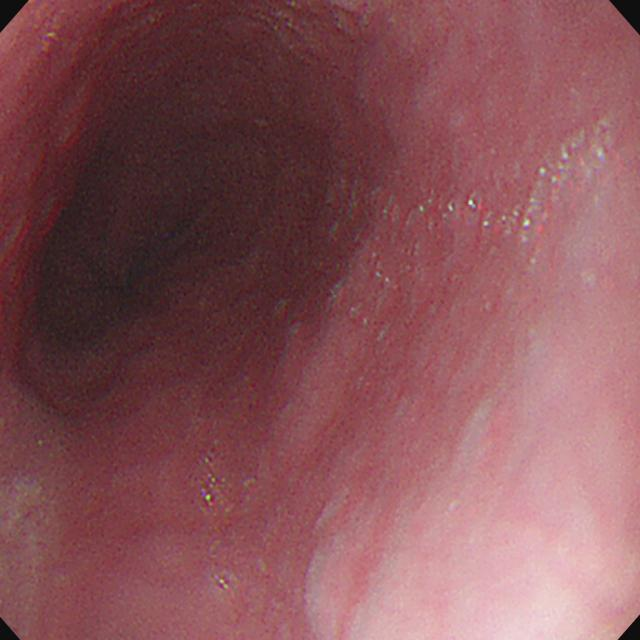U: (198, 488, 220, 516), (215, 575, 233, 592)
